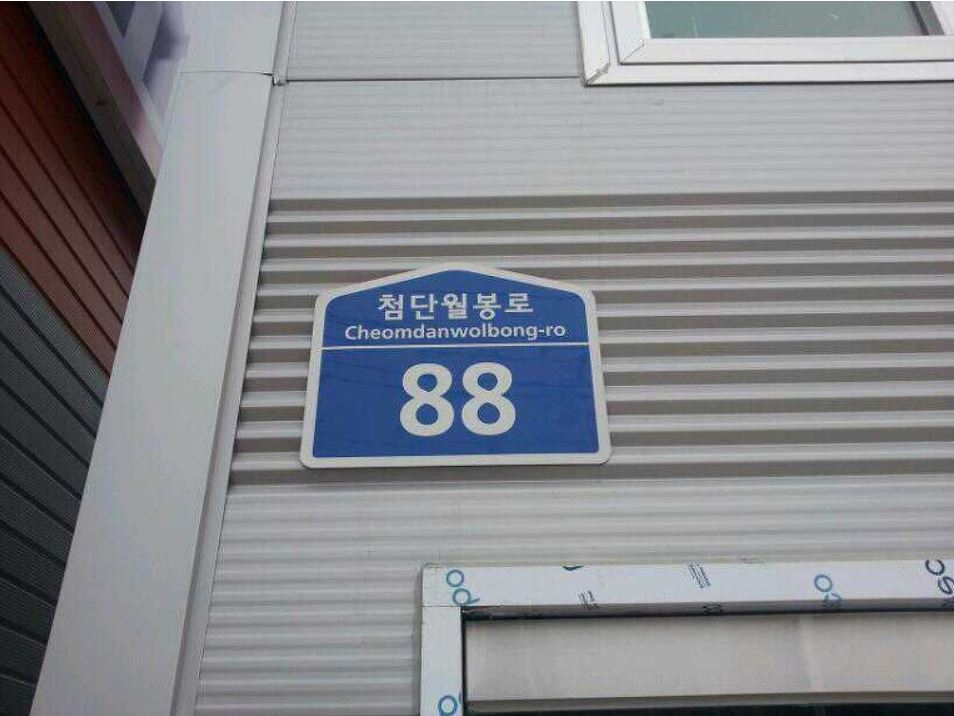building_license_plate1: (298, 264, 612, 470)
